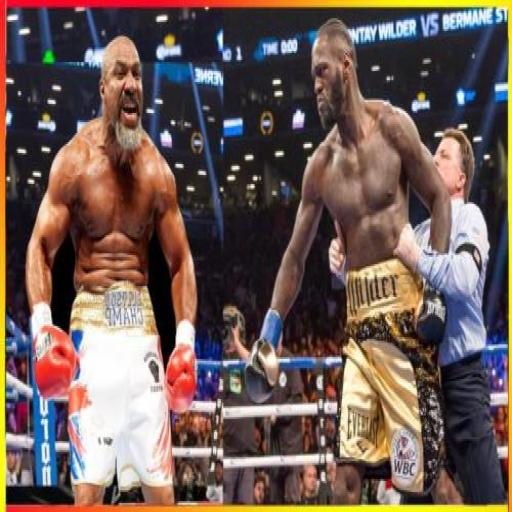boxing: (242, 16, 458, 503), (24, 33, 198, 505)
